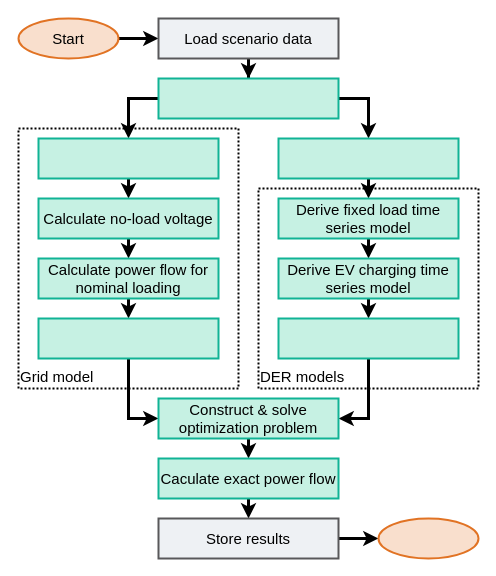
This 496x576 diagram has some shape labels left out. Each missing label, with the centre of its shape:
"Derive admittance matrix for the electric grid" goes at [128,158].
"Derive approximate power flow model" goes at [128,338].
"Derive flexible load models & constraints" goes at [368,338].
"End" goes at [428,538].
"Instantiate aggregators" goes at [368,158].
"Instantiate operation problem" goes at [248,98].
